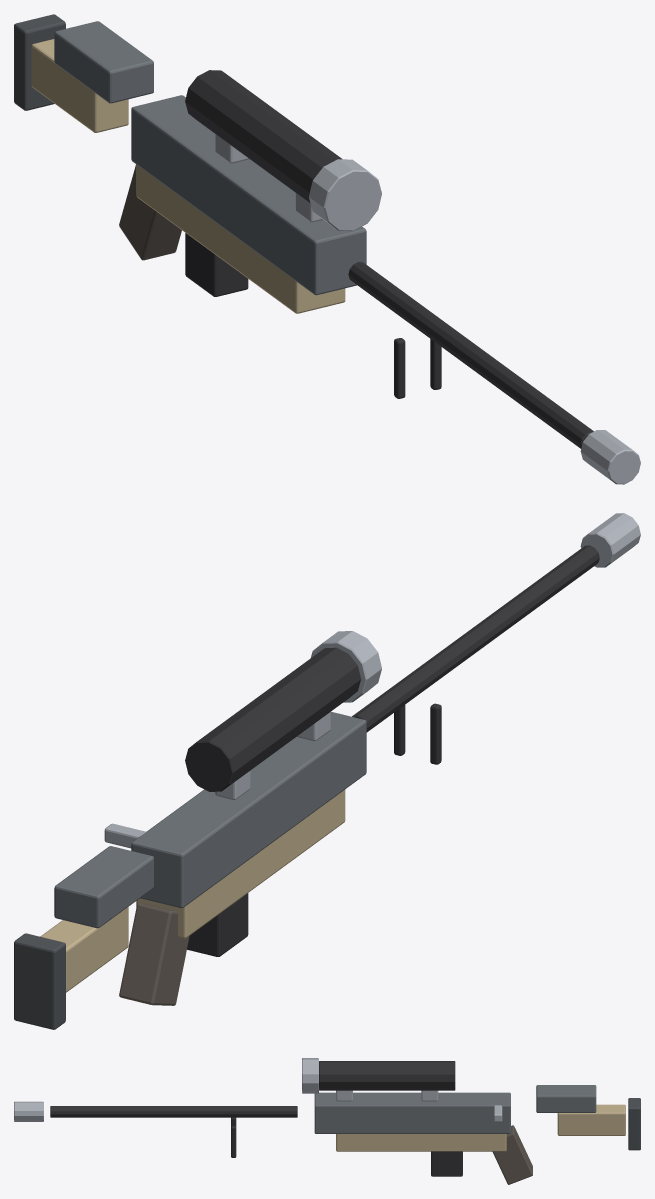
File: awp.glb
3 renders of one model, top to bottom at view 1: azimuth 30°, elevation 25°; view 2: azimuth 150°, elevation 25°; view 3: azimuth 270°, elevation 25°, orthographic. The views are drawn at different scales.
Visible parts, largest first — view 1: Chassis, Scope, Barrel, Lower, Cheek, ScopeObj, Stock, Grip, Butt, Mag, Brake, BipodL; view 2: Chassis, Scope, Barrel, Lower, Cheek, Grip, Butt, Stock, Mag, Brake, ScopeObj, BipodL; view 3: Chassis, Scope, Lower, Barrel, Stock, Cheek, Grip, Mag, Butt, Brake, ScopeObj, MountR.
Part boxes in pixels (left/top/right/bottom): Chassis: left=131, top=95, right=366, bottom=295; Scope: left=185, top=70, right=342, bottom=203; Barrel: left=348, top=262, right=593, bottom=448; Lower: left=136, top=164, right=345, bottom=313; Cheek: left=54, top=21, right=153, bottom=103; ScopeObj: left=309, top=159, right=381, bottom=231; Stock: left=31, top=39, right=128, bottom=132; Grip: left=119, top=164, right=181, bottom=260; Butt: left=14, top=14, right=65, bottom=110; Mag: left=185, top=233, right=248, bottom=296; Brake: left=580, top=430, right=640, bottom=484; BipodL: left=394, top=338, right=405, bottom=398; Chassis: left=131, top=711, right=366, bottom=908; Scope: left=185, top=647, right=360, bottom=791; Barrel: left=352, top=545, right=599, bottom=732; Lower: left=136, top=789, right=345, bottom=938; Cheek: left=54, top=846, right=153, bottom=928; Grip: left=119, top=903, right=189, bottom=1005; Butt: left=14, top=933, right=65, bottom=1029; Stock: left=40, top=907, right=128, bottom=992; Mag: left=187, top=893, right=248, bottom=956; Brake: left=580, top=513, right=640, bottom=567; ScopeObj: left=311, top=631, right=381, bottom=702; BipodL: left=430, top=703, right=441, bottom=764; Chassis: left=314, top=1092, right=510, bottom=1133; Scope: left=319, top=1061, right=455, bottom=1090; Lower: left=336, top=1134, right=506, bottom=1151; Barrel: left=50, top=1106, right=297, bottom=1117; Stock: left=557, top=1104, right=625, bottom=1135; Cheek: left=536, top=1085, right=596, bottom=1112; Grip: left=492, top=1125, right=532, bottom=1184; Mag: left=431, top=1151, right=462, bottom=1176; Butt: left=628, top=1098, right=640, bottom=1150; Brake: left=14, top=1101, right=43, bottom=1121; ScopeObj: left=302, top=1058, right=318, bottom=1093; MountR: left=421, top=1090, right=438, bottom=1101.
Size of the model in its own units: 0.1295 by 0.3138 by 1.47.
